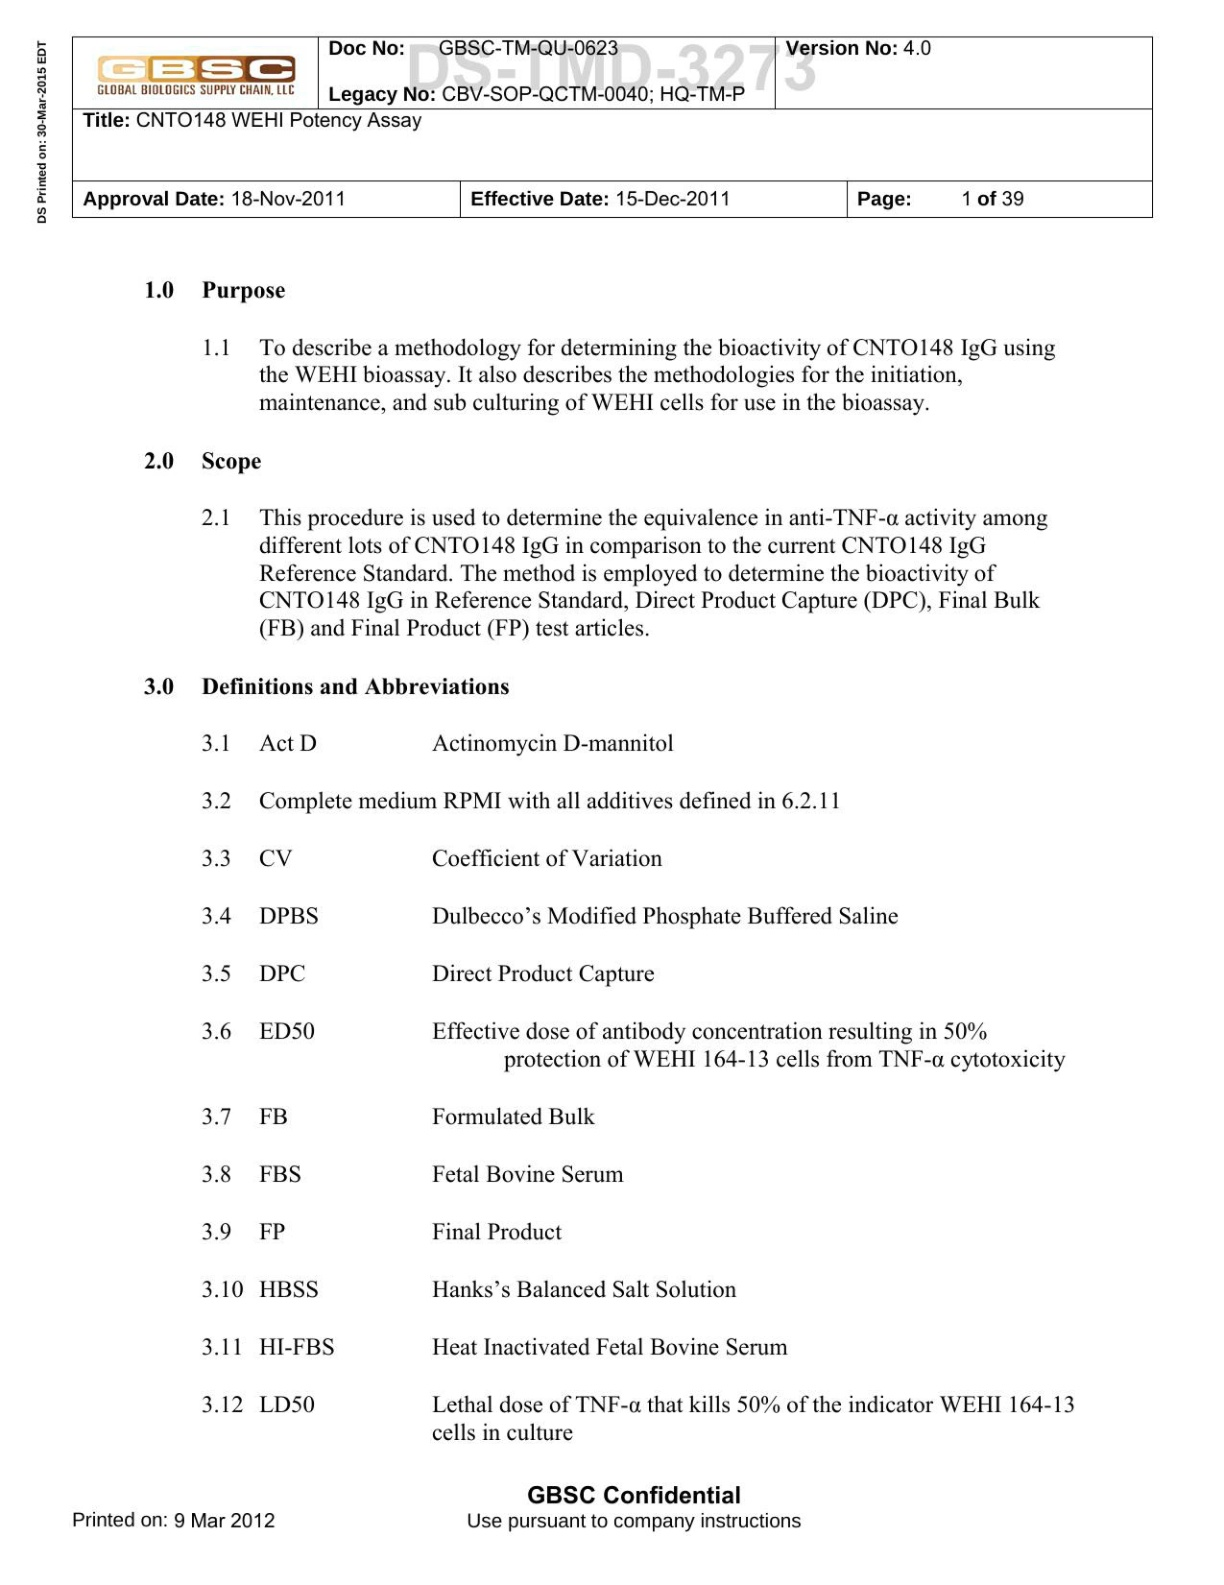merged_cells: (71, 33, 1155, 219)
